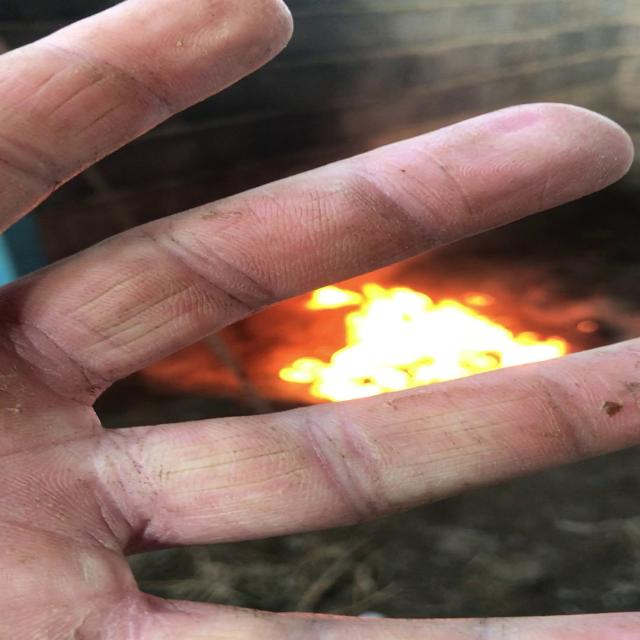fire: (287, 284, 553, 384)
